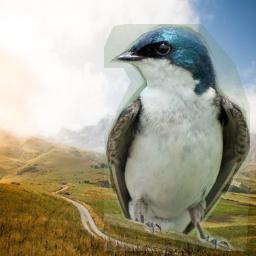Swallow: (104, 24, 250, 251)
